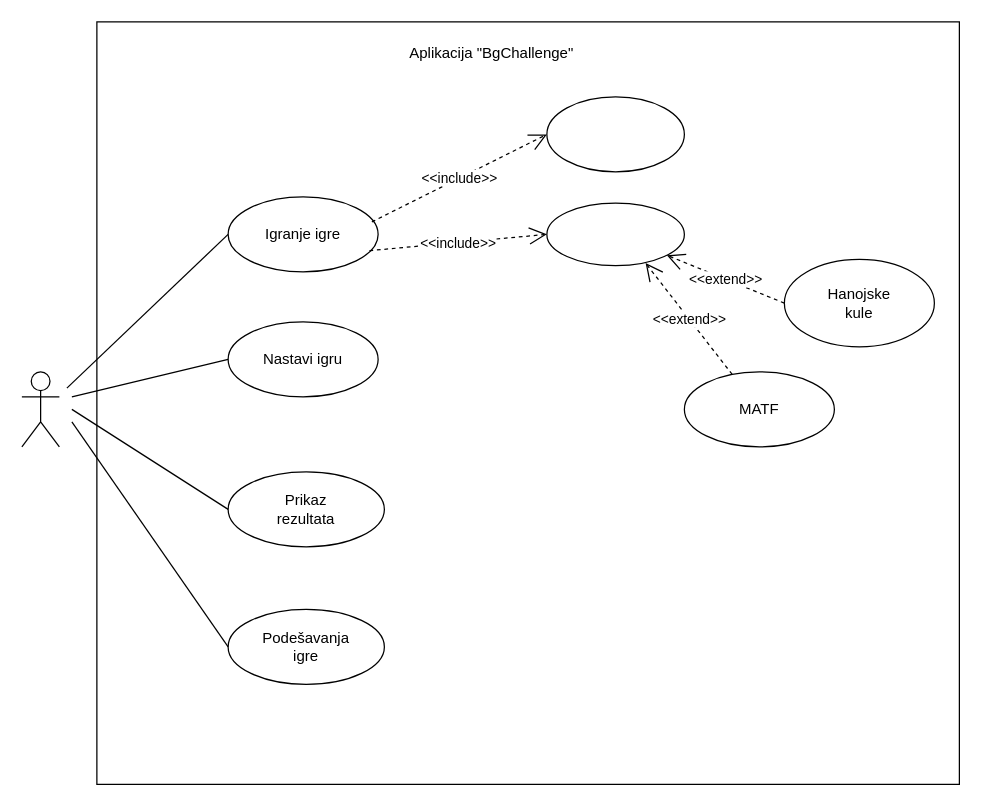
The diagram is 981 pixels wide and 806 high, and some of its shapes have lost their labels. Here are the shapes that lost their labels. From the top down, the centre of each, then its label:
the point at 615,134: Čuvanje rezultata
the point at 615,234: Prelženje nivoa
the point at 40,409: Igrač
